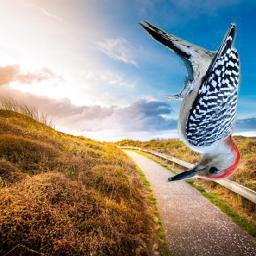Woodpecker: (130, 9, 250, 190)
